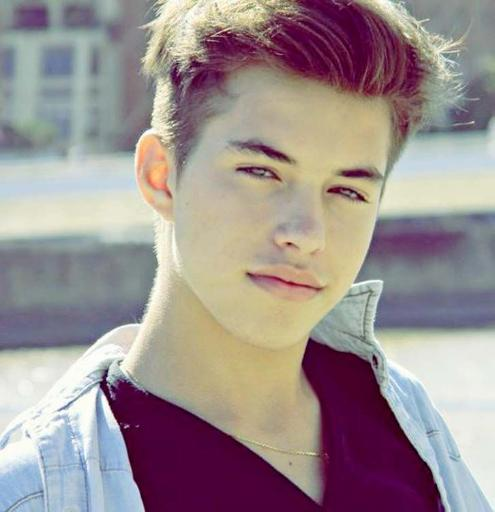left_eye: (323, 186, 372, 204)
left_lip_corner: (308, 282, 332, 298)
right_eye: (230, 167, 285, 186)
right_lip_corner: (242, 267, 266, 288)
